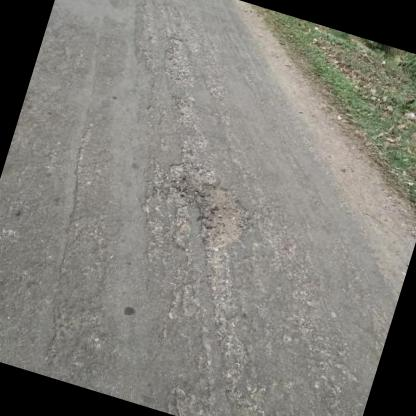pothole: (179, 177, 258, 258)
